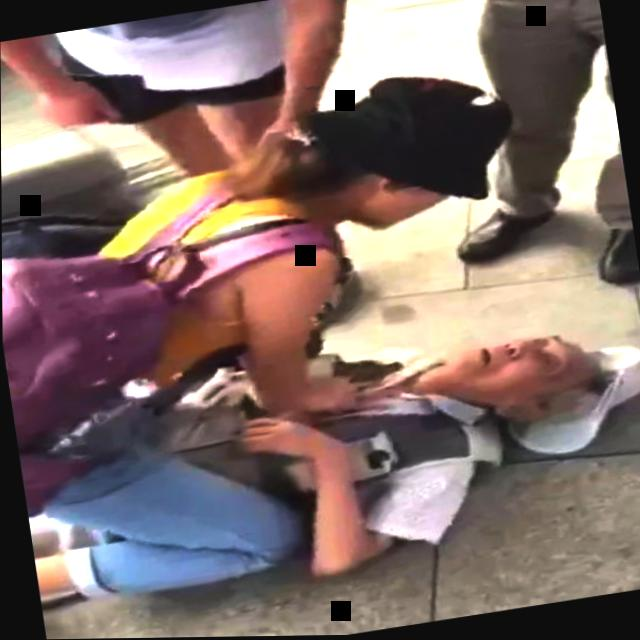Fall-Detected: (16, 289, 640, 640)
